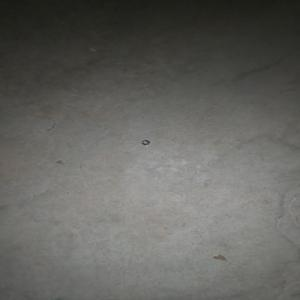Nut: (140, 140, 150, 146)
